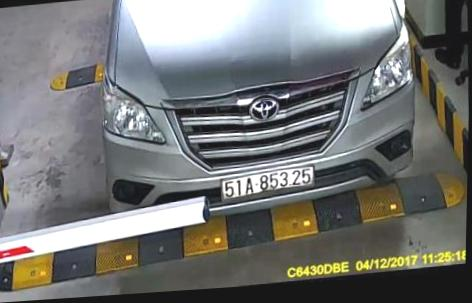License_Plate: (216, 166, 323, 203)
